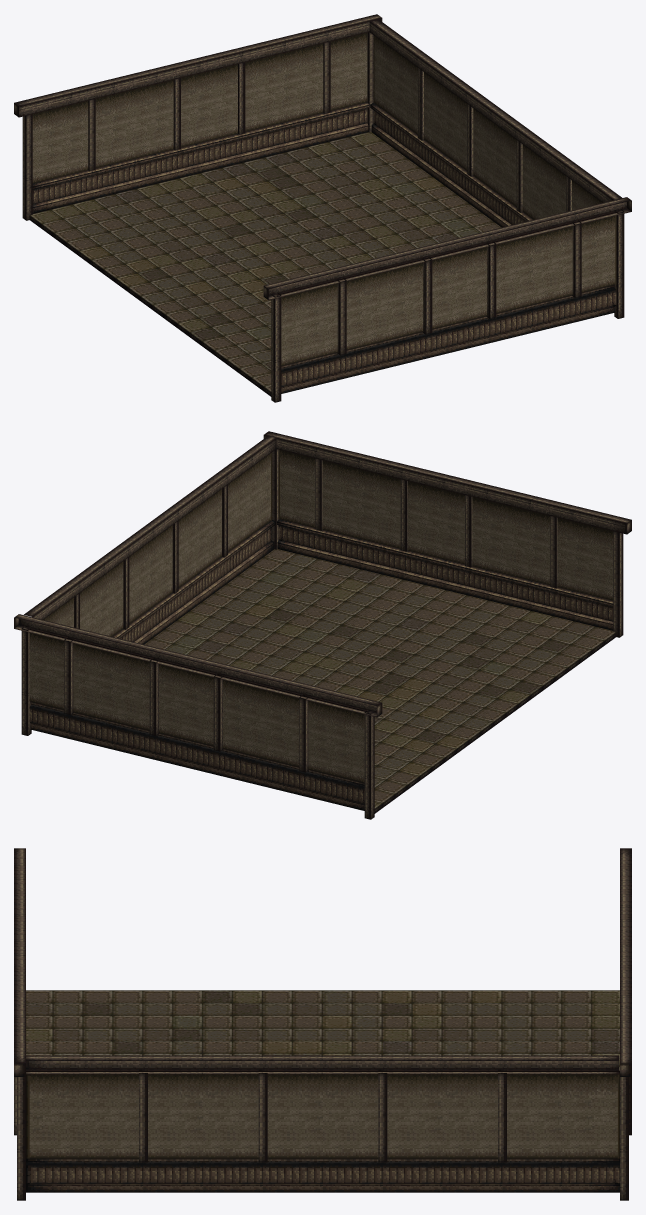
Rendered from EnvBdgMD_WoodHouse_A_Indoor_Evt_Partychat_BAR.FBX.
The picture shows the model from 3 angles, top to bottom: view 1: azimuth 30°, elevation 25°; view 2: azimuth 150°, elevation 25°; view 3: azimuth 270°, elevation 25°; orthographic projection. The views are drawn at different scales.
Visible parts, largest first — view 1: EnvBdgMD_WoodHouse_A_Indoor_Evt_Partychat_BAR; view 2: EnvBdgMD_WoodHouse_A_Indoor_Evt_Partychat_BAR; view 3: EnvBdgMD_WoodHouse_A_Indoor_Evt_Partychat_BAR.
Part boxes in pixels (<box>): EnvBdgMD_WoodHouse_A_Indoor_Evt_Partychat_BAR: <box>14,14,631,402</box>; EnvBdgMD_WoodHouse_A_Indoor_Evt_Partychat_BAR: <box>14,431,631,819</box>; EnvBdgMD_WoodHouse_A_Indoor_Evt_Partychat_BAR: <box>14,848,631,1200</box>.
Size of the model in its own units: 1700 by 520 by 2065.
1 material, 1 textured.
